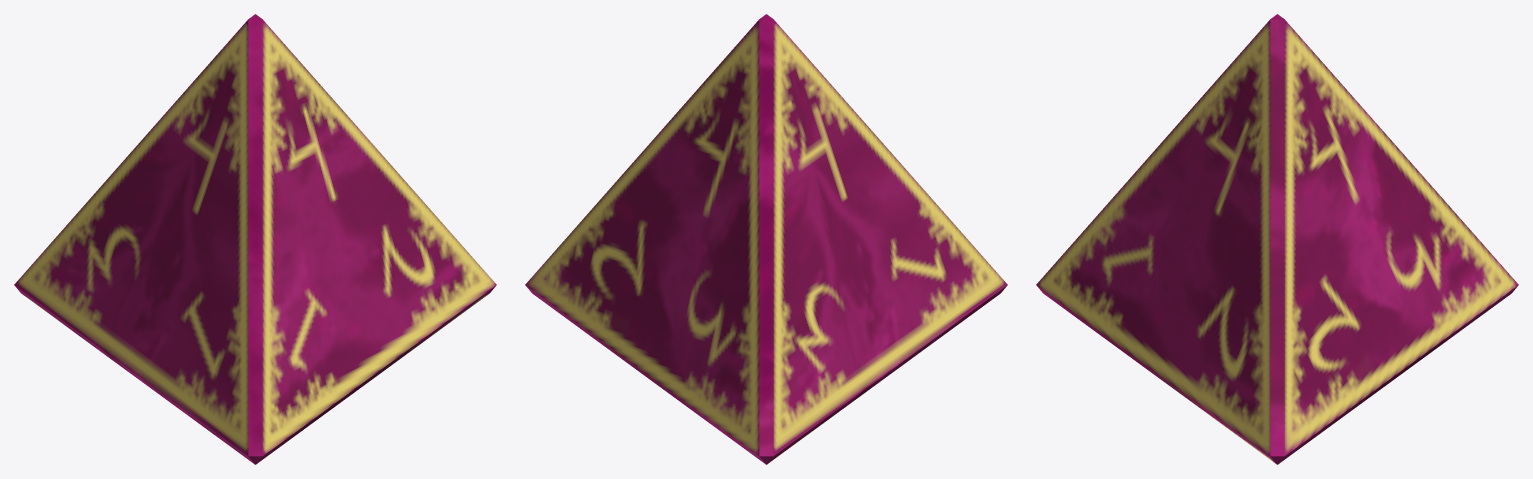
3 views of the same model, side by side, from view 1: azimuth 30°, elevation 25°; view 2: azimuth 150°, elevation 25°; view 3: azimuth 270°, elevation 25° (orthographic).
Visible parts, largest first — view 1: polySurface1; view 2: polySurface1; view 3: polySurface1.
Part boxes in pixels (bbox=[...]): polySurface1: bbox=[14, 14, 496, 464]; polySurface1: bbox=[525, 14, 1007, 464]; polySurface1: bbox=[1036, 14, 1518, 464].
Size of the model in its own units: 0.0149 by 0.0131 by 0.0172.
Materials: 1 (1 with a texture image).
